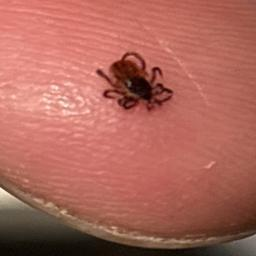Ixodes scapularis: (95, 51, 173, 113)
